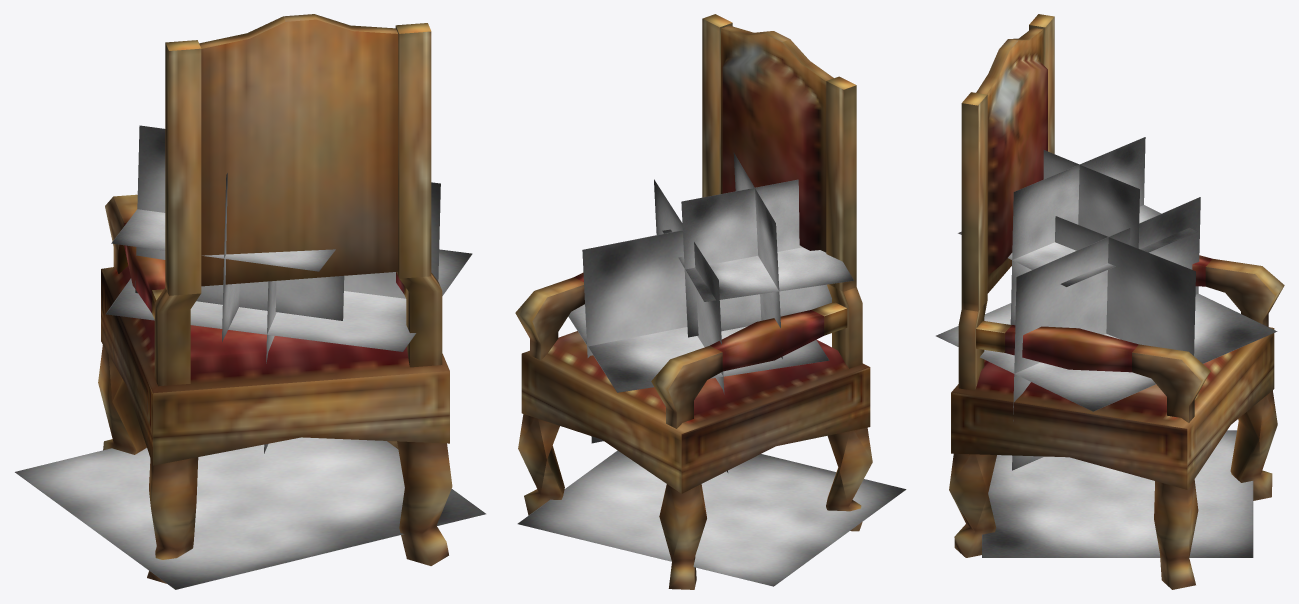
File: a_SWGchair01A_B01.glb
The picture shows the model from 3 angles, left to right: view 1: azimuth 30°, elevation 25°; view 2: azimuth 150°, elevation 25°; view 3: azimuth 270°, elevation 25°; orthographic projection. The views are drawn at different scales.
Visible parts, largest first — view 1: a_SWGchair01A_B01; view 2: a_SWGchair01A_B01; view 3: a_SWGchair01A_B01.
Boxes of the visible parts, x1=… form: a_SWGchair01A_B01: x1=15, y1=14, x2=485, y2=589; a_SWGchair01A_B01: x1=515, y1=14, x2=906, y2=589; a_SWGchair01A_B01: x1=936, y1=14, x2=1284, y2=589.
Size of the model in its own units: 0.812 by 1.17 by 0.8027.
Materials: 2 (2 with a texture image).
